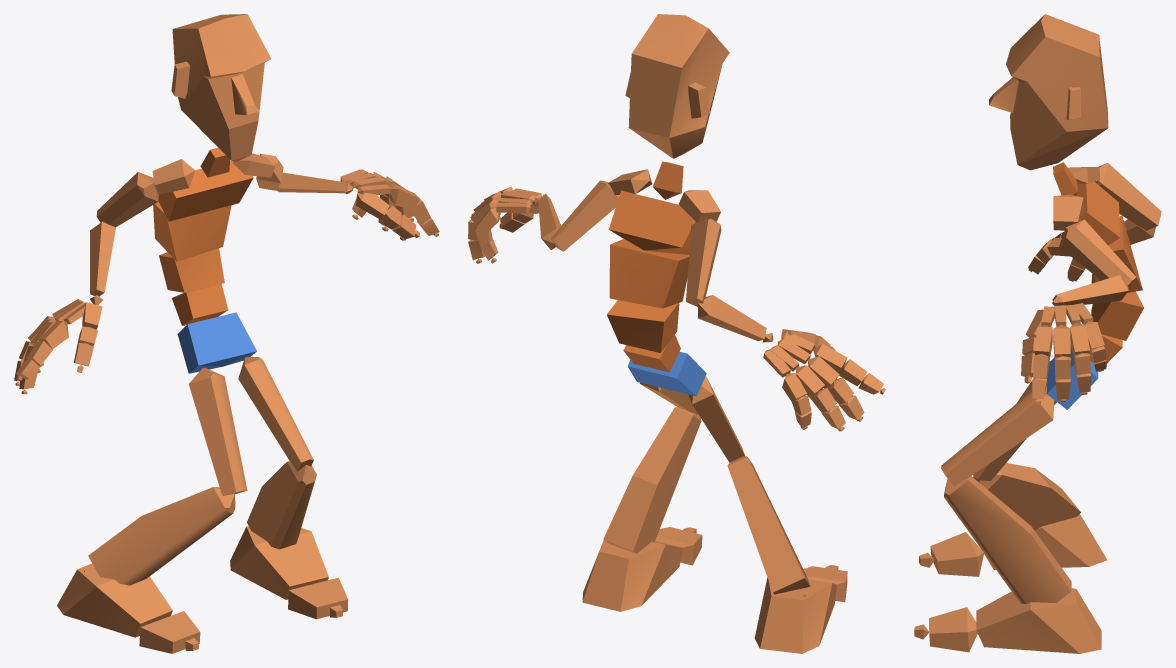
The model's file is prueba198.obj.
The picture shows the model from 3 angles, left to right: view 1: azimuth 30°, elevation 25°; view 2: azimuth 150°, elevation 25°; view 3: azimuth 270°, elevation 25°; orthographic projection. The views are drawn at different scales.
Parts seen in each view (by area): view 1: BOPED_Head, BOPED_R_leg, BOPED_R_foot, BOPED_R_foot01, BOPED_R_legup, BOPED_L_leg, Bone01, BOPED_L_legup, Bone04, Bone05, Bone03, BOPED_R_arm_upper (+8 smaller); view 2: BOPED_Head, BOPED_L_leg, BOPED_R_foot01, BOPED_R_foot, BOPED_R_leg, Bone04, Bone05, Bone03, BOPED_R_arm_upper, BOPED_L_arm_upper, Bone01, BOPED_R_legup (+9 smaller); view 3: BOPED_Head, BOPED_L_leg, BOPED_R_foot01, BOPED_L_legup, BOPED_R_leg, BOPED_R_foot, BOPED_L_arm_upper, BOPED_R_arm_upper, BOPED_R_foot_toe01, Bone05, BOPED_R_foot_toe04, Bone03 (+15 smaller).
Part boxes in pixels (box(x1,y1,x2,y2)): BOPED_Head: box(171, 14, 271, 161); BOPED_R_leg: box(88, 487, 235, 585); BOPED_R_foot: box(57, 563, 172, 637); BOPED_R_foot01: box(230, 526, 328, 599); BOPED_R_legup: box(189, 367, 247, 495); BOPED_L_leg: box(247, 461, 316, 549); Bone01: box(177, 312, 256, 373); BOPED_L_legup: box(238, 357, 313, 471); Bone04: box(153, 201, 231, 261); Bone05: box(158, 160, 253, 221); Bone03: box(159, 248, 224, 292); BOPED_R_arm_upper: box(96, 172, 158, 227); BOPED_Head: box(625, 14, 729, 158); BOPED_L_leg: box(603, 407, 701, 553); BOPED_R_foot01: box(582, 540, 682, 611); BOPED_R_foot: box(754, 577, 836, 653); BOPED_R_leg: box(727, 456, 810, 594); Bone04: box(609, 239, 688, 308); Bone05: box(609, 190, 696, 254); Bone03: box(606, 300, 679, 352); BOPED_R_arm_upper: box(686, 218, 721, 306); BOPED_L_arm_upper: box(550, 180, 619, 251); Bone01: box(627, 351, 706, 396); BOPED_R_legup: box(688, 376, 745, 462); BOPED_Head: box(989, 14, 1108, 170); BOPED_L_leg: box(944, 476, 1071, 604); BOPED_R_foot01: box(976, 588, 1101, 653); BOPED_L_legup: box(941, 391, 1054, 486); BOPED_R_leg: box(973, 463, 1080, 530); BOPED_R_foot: box(984, 514, 1107, 570); BOPED_L_arm_upper: box(1059, 219, 1136, 287); BOPED_R_arm_upper: box(1095, 163, 1161, 230); BOPED_R_foot_toe01: box(930, 532, 983, 576); Bone05: box(1076, 181, 1119, 245); BOPED_R_foot_toe04: box(929, 607, 977, 652); Bone03: box(1091, 291, 1143, 340).
Size of the model in its own units: 130 by 172 by 65.14.
